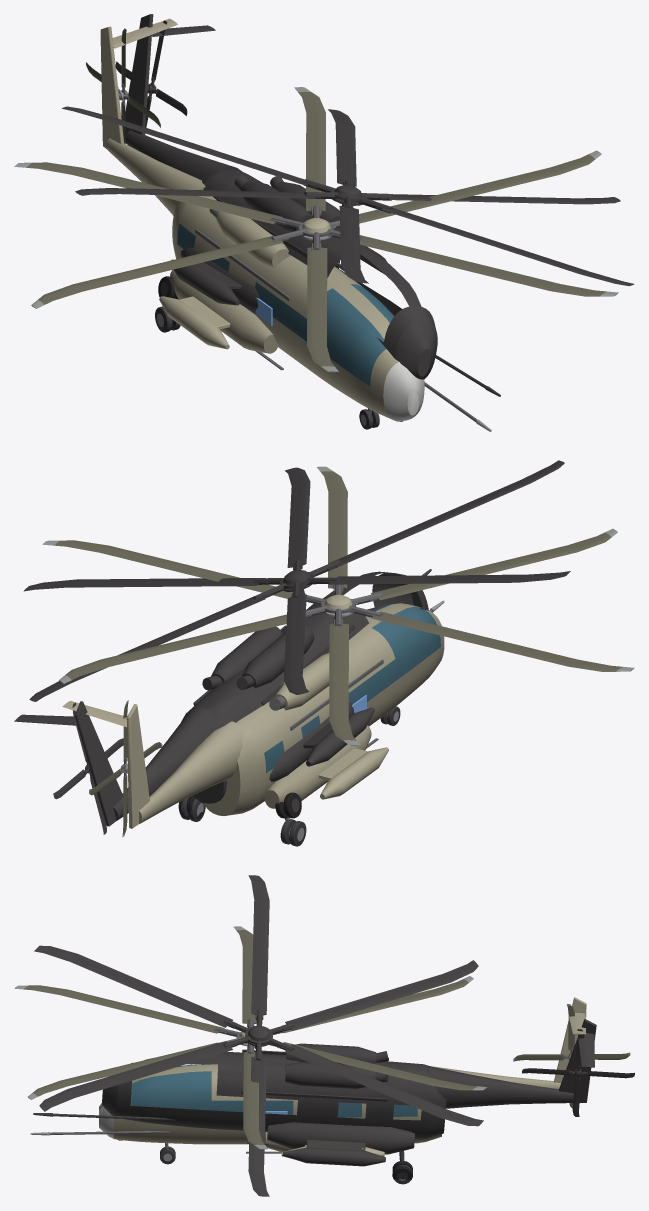
Rendered from heavyLift__ch_53ga.glb.
The picture shows the model from 3 angles, top to bottom: view 1: azimuth 30°, elevation 25°; view 2: azimuth 150°, elevation 25°; view 3: azimuth 270°, elevation 25°; orthographic projection. The views are drawn at different scales.
Parts seen in each view (by area): view 1: Wreck, Fuselage_Mesh, Rotor_Main_Mesh, Engines_Mesh, Rotor_Tail_Mesh, Landing_Gear_Mesh; view 2: Wreck, Fuselage_Mesh, Rotor_Main_Mesh, Engines_Mesh, Landing_Gear_Mesh, Rotor_Tail_Mesh; view 3: Wreck, Fuselage_Mesh, Rotor_Main_Mesh, Rotor_Tail_Mesh.
Part boxes in pixels (x1=…): Wreck: x1=62, y1=14, x2=634, y2=396; Fuselage_Mesh: x1=100, y1=18, x2=491, y2=431; Rotor_Main_Mesh: x1=14, y1=87, x2=618, y2=372; Engines_Mesh: x1=209, y1=209, x2=291, y2=267; Rotor_Tail_Mesh: x1=86, y1=28, x2=160, y2=143; Landing_Gear_Mesh: x1=155, y1=306, x2=379, y2=429; Wreck: x1=14, y1=460, x2=570, y2=834; Fuselage_Mesh: x1=62, y1=600, x2=444, y2=828; Rotor_Main_Mesh: x1=42, y1=466, x2=634, y2=745; Engines_Mesh: x1=269, y1=653, x2=329, y2=710; Landing_Gear_Mesh: x1=180, y1=706, x2=400, y2=846; Rotor_Tail_Mesh: x1=89, y1=700, x2=162, y2=836; Wreck: x1=33, y1=875, x2=634, y2=1196; Fuselage_Mesh: x1=30, y1=997, x2=586, y2=1158; Rotor_Main_Mesh: x1=14, y1=926, x2=486, y2=1149; Rotor_Tail_Mesh: x1=513, y1=1004, x2=630, y2=1108.
Size of what is drawn, in the model's own units: 22.7 by 9.09 by 25.95.
